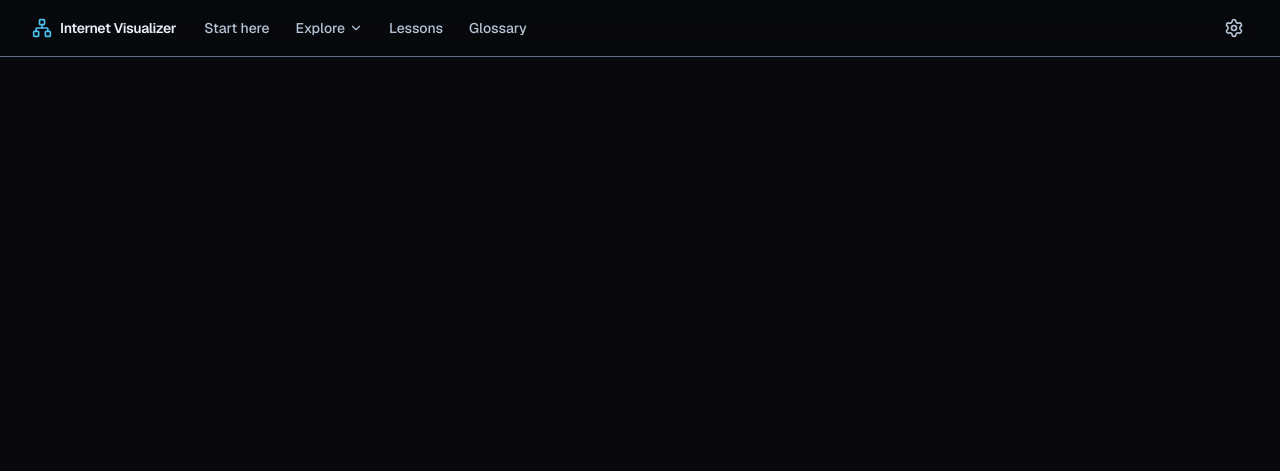
Scenario: TopNav › closes on Escape and hands focus back to its button
Click the button "Explore".
click(329, 28)  # box [284,10,375,46]
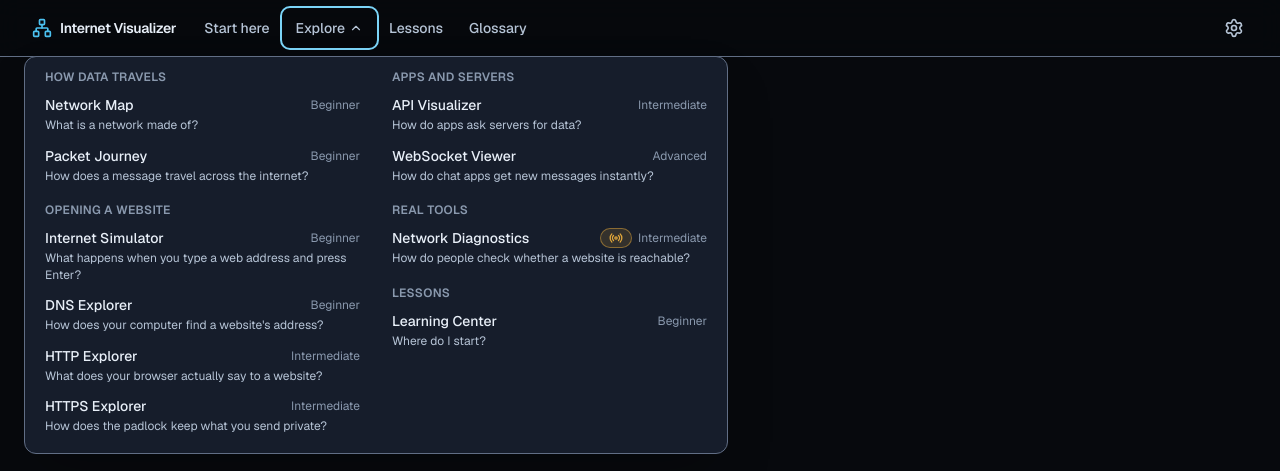
Expected: the menu named "Explore" is shown, [24,56,728,454]
Press Escape
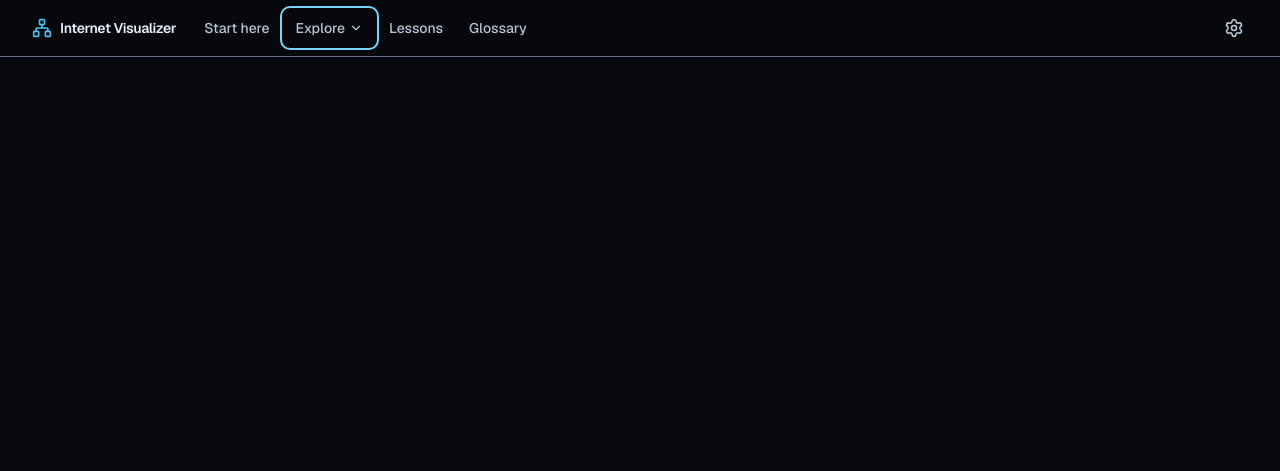
Expected: the button "Explore" is collapsed, [284,10,375,46]
